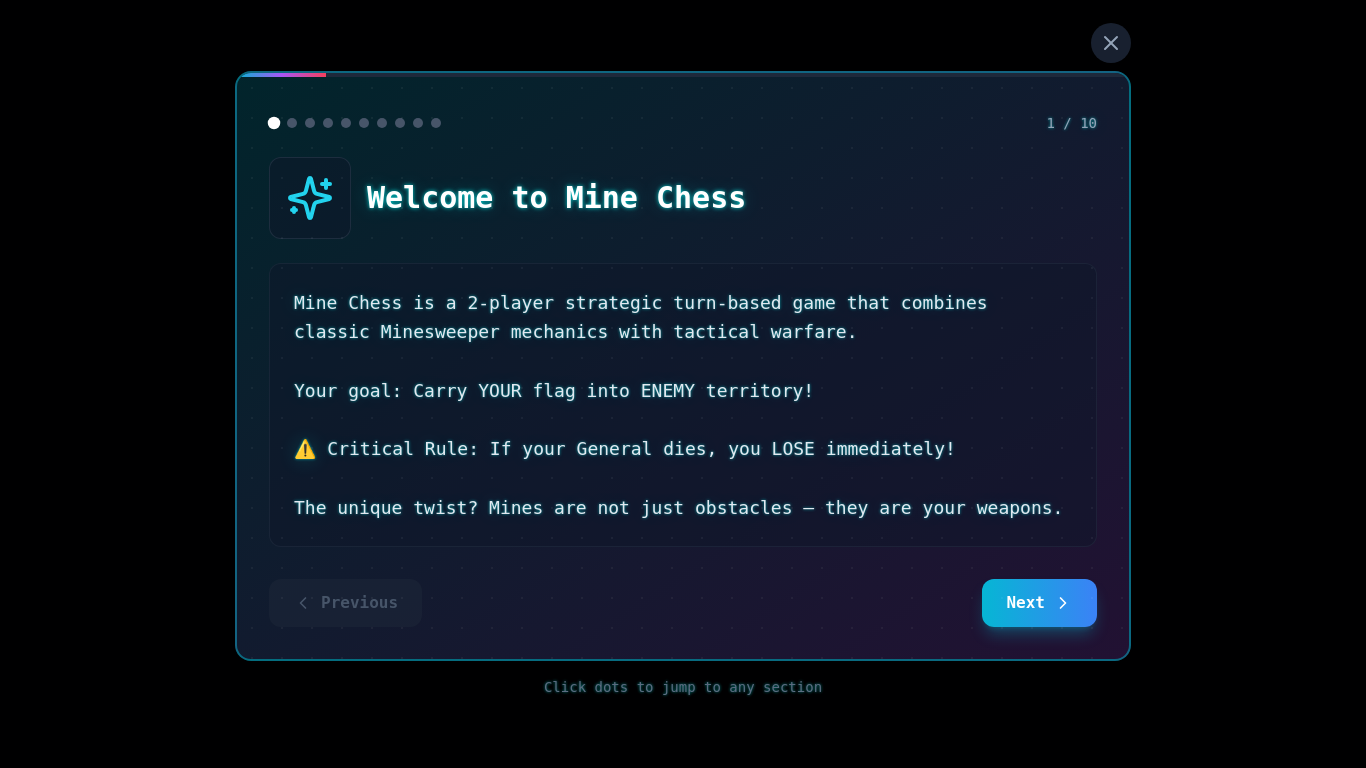
Scenario: Tutorial › navigates back when Previous button is clicked
Note: Go to step 2
Click the button "Next" at {"x": 1040, "y": 603}, box [982,579,1097,627]
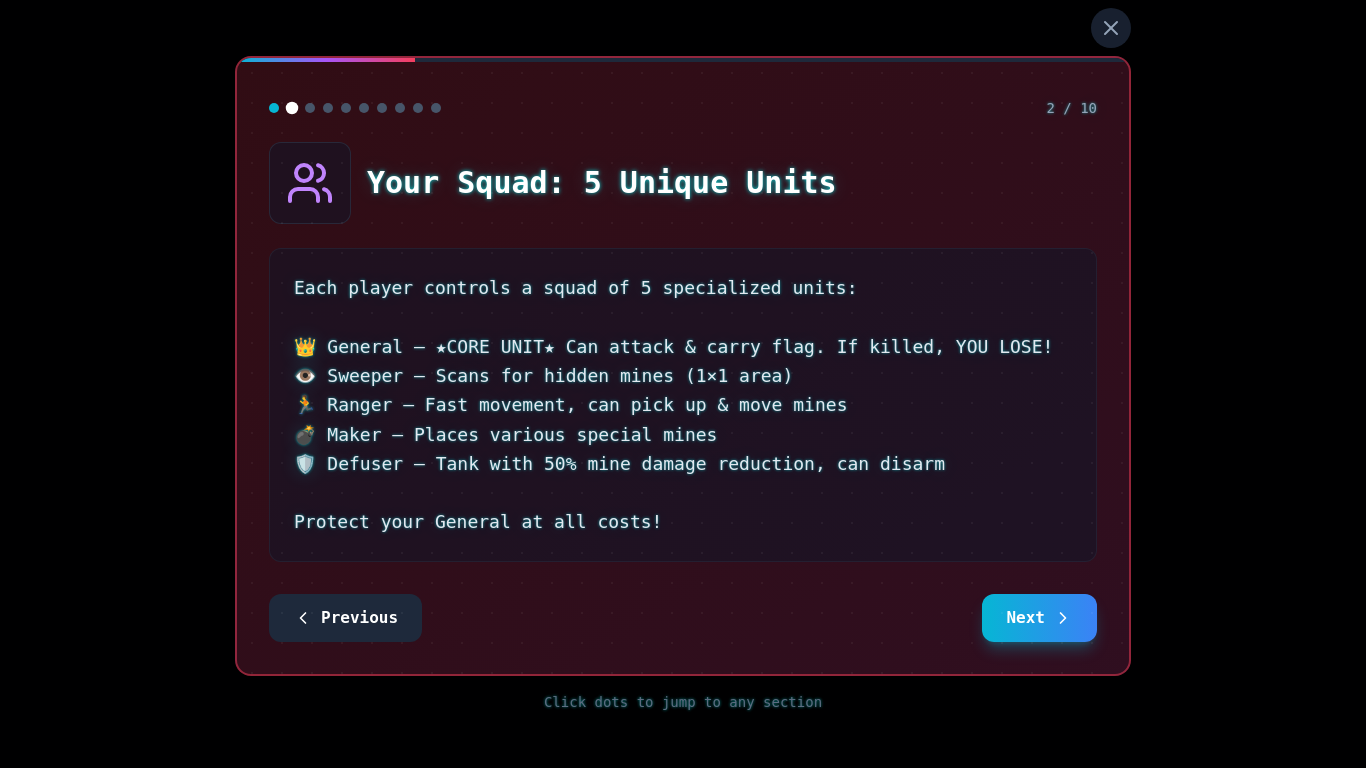
Expected: the text "2 / 10" is shown, [1046,98,1097,118]
Note: Go back to step 1
Click the button "Previous" at {"x": 346, "y": 618}, box [269,594,422,642]
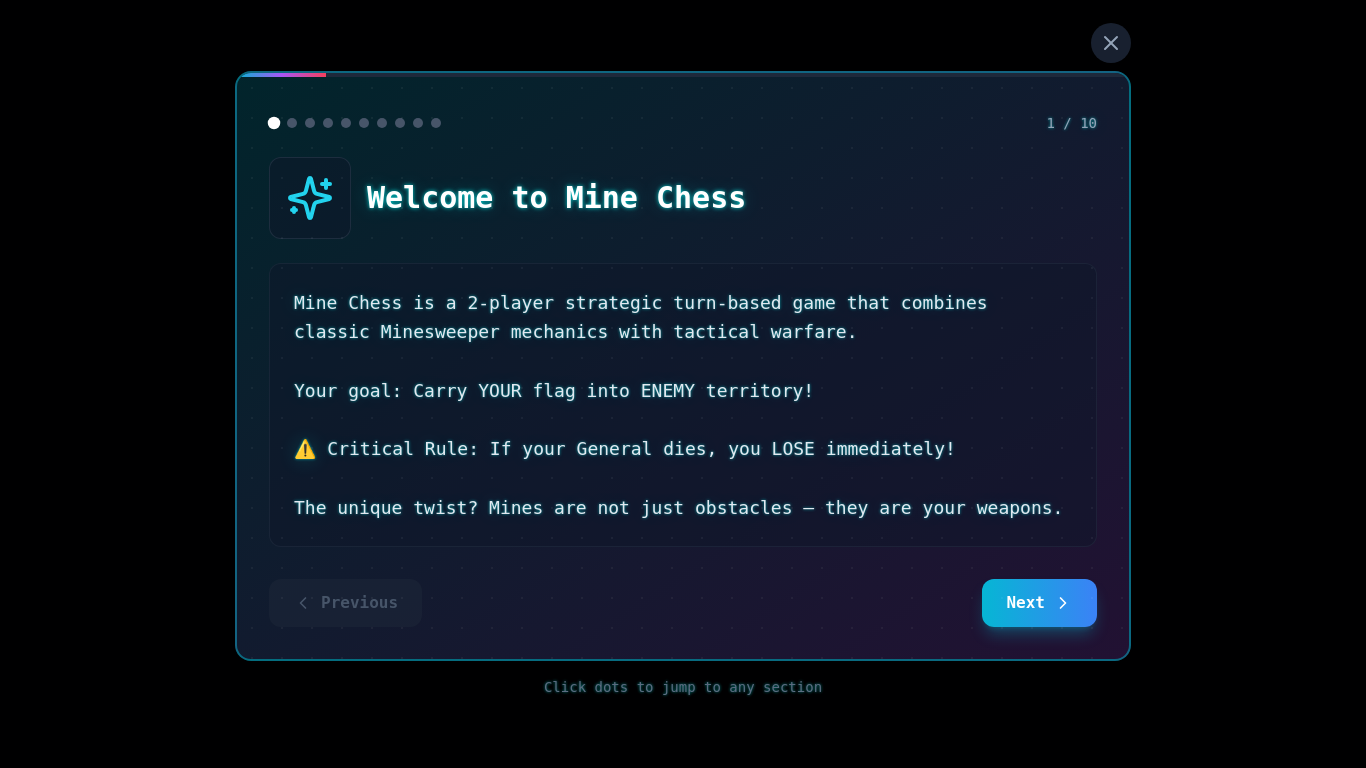
Expected: the text "1 / 10" is shown, [1046,113,1097,133]
Expected: the heading "Welcome to Mine Chess" is shown, [367,180,746,216]
